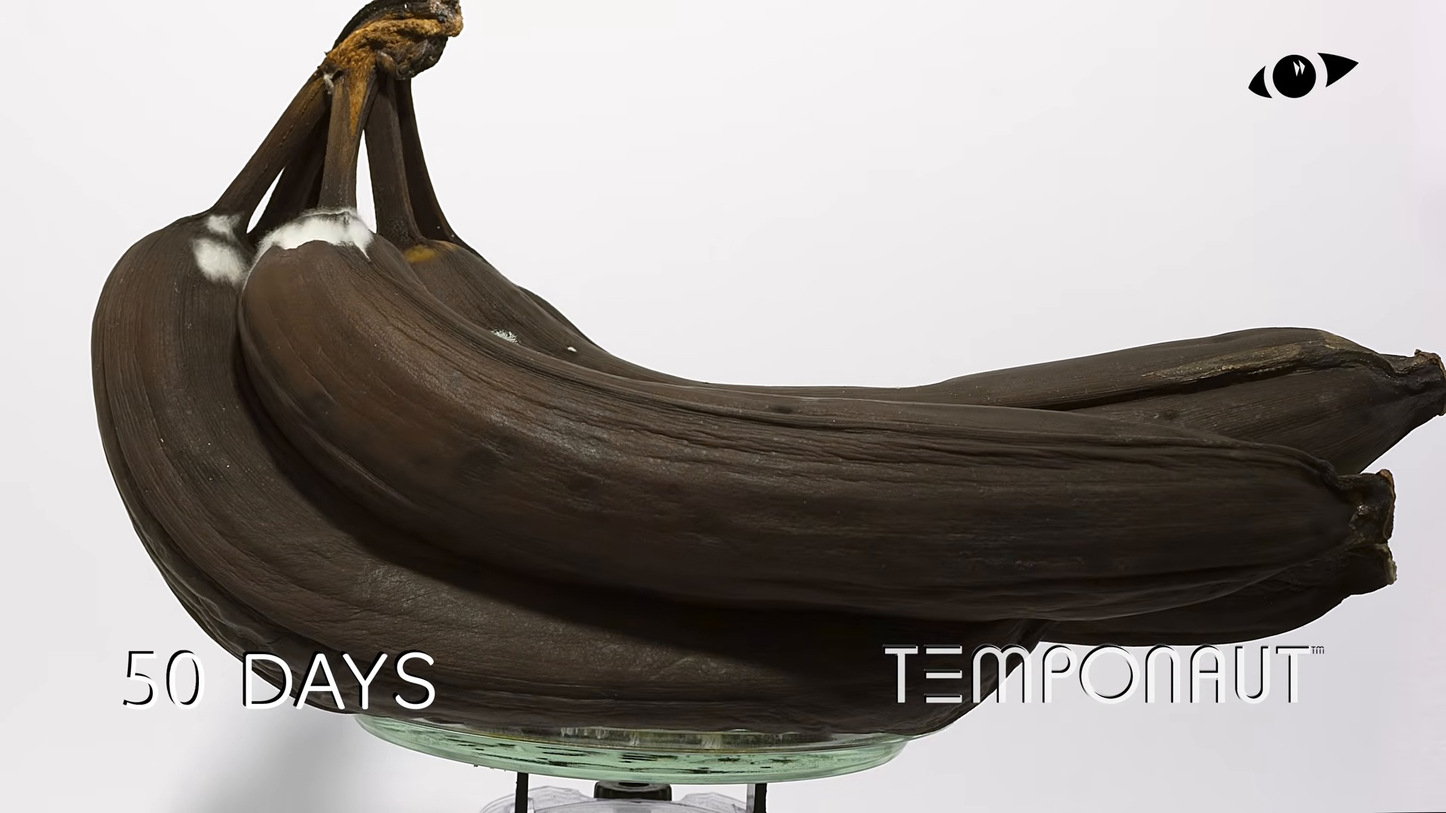banana_rotten: (86, 2, 1431, 788)
